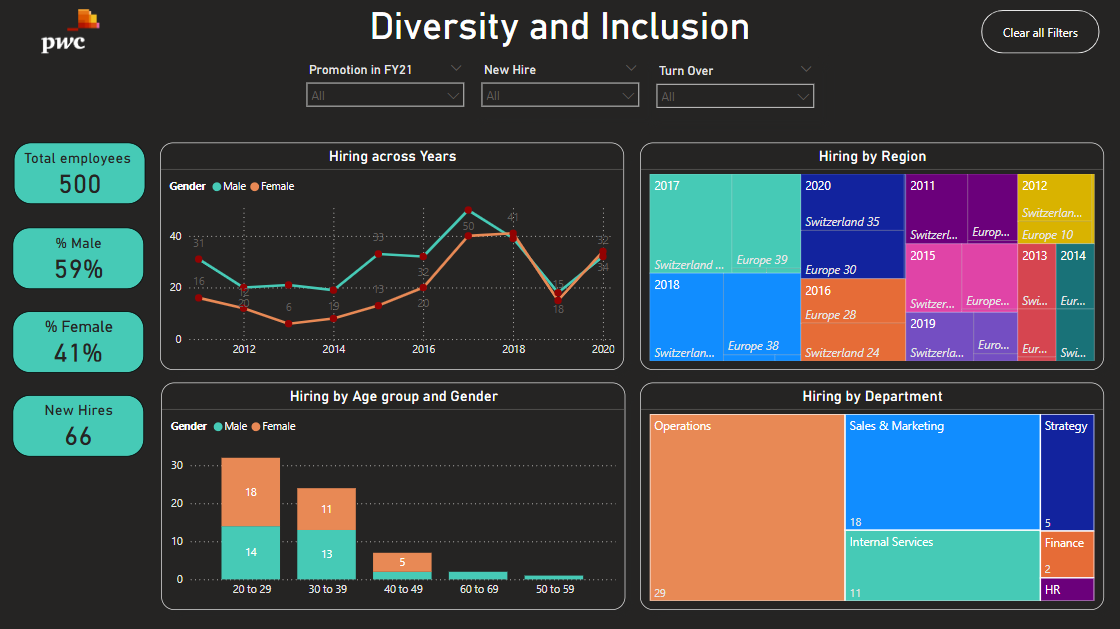

What the dashboard file says about the page in this screenshot:
{"tool":"powerbi","page":{"name":"Hire","canvas":[1280,720],"ordinal":1},"visuals":[{"type":"card","title":"Total employees","fields":{"Values":["Pharma Group AG.Total employees"]},"box":[15.4,162.8,150.1,70.2],"z":0,"group":"g2"},{"type":"lineChart","title":"Hiring across Years","fields":{"Y":["CountNonNull(Pharma Group AG.Employee ID)"],"Category":["Pharma Group AG.Last hire date.Variation.Date Hierarchy.Year"],"Series":["Pharma Group AG.Gender"]},"box":[183,162.9,530,260],"z":0},{"type":"treemap","title":"Hiring by Region","fields":{"Values":["CountNonNull(Pharma Group AG.New hire FY20?)"],"Details":["Pharma Group AG.Region group: nationality 1"],"Group":["Pharma Group AG.Last hire date.Variation.Date Hierarchy.Year"]},"box":[731.2,162.8,530,260.2],"z":1000},{"type":"columnChart","title":"Hiring by  Age group and Gender","fields":{"Category":["Pharma Group AG.Age group"],"Y":["Pharma Group AG.New Hire"],"Series":["Pharma Group AG.Gender"]},"box":[183.6,437.4,530,260.2],"z":2000},{"type":"treemap","title":"Hiring by Department ","fields":{"Group":["Pharma Group AG.Department @01.07.2020"],"Values":["Pharma Group AG.New Hire"]},"box":[731,437.4,530,260.2],"z":3000},{"type":"image","box":[0,5,160,60.3],"z":4000},{"type":"group","id":"g1","title":"Group 1","box":[339.6,65.1,600.8,71.2],"z":5000},{"type":"actionButton","box":[1120.8,12.1,135.1,49.5],"z":6000},{"type":"group","id":"g2","title":"Group 2","box":[13.8,162.8,151.7,359.2],"z":7000},{"type":"textbox","box":[0,0,1280,67.6],"z":8000},{"type":"card","title":"New Hires","fields":{"Values":["Pharma Group AG.New Hire"]},"box":[13.8,451.8,150.1,70.2],"z":9000,"group":"g2"},{"type":"slicer","fields":{"Values":["Pharma Group AG.New hire FY20?"]},"box":[539.9,65.1,200.3,70],"z":10000,"group":"g1"},{"type":"card","title":"% Male","fields":{"Values":["Pharma Group AG.% Male"]},"box":[13.8,259.3,150,70],"z":10000,"group":"g2"},{"type":"slicer","fields":{"Values":["Pharma Group AG.FY20 leaver?"]},"box":[740.1,66.3,200.3,70],"z":11000,"group":"g1"},{"type":"card","title":"% Female","fields":{"Values":["Pharma Group AG.% Female"]},"box":[13.8,355.5,150,70],"z":11000,"group":"g2"},{"type":"slicer","fields":{"Values":["Pharma Group AG.Promotion in FY21?"]},"box":[339.6,65.1,200.3,63.9],"z":12000,"group":"g1"}]}

Visuals, with their boxes in screenshot pixels (x1, y1, x2, y2), scaled from the page's 1280x720 canvas onto the 1120x629 screenshot:
"Total employees" card: <bbox>13, 142, 145, 204</bbox>
"Hiring across Years" lineChart: <bbox>160, 142, 624, 369</bbox>
"Hiring by Region" treemap: <bbox>640, 142, 1104, 370</bbox>
"Hiring by  Age group and Gender" columnChart: <bbox>161, 382, 624, 609</bbox>
"Hiring by Department " treemap: <bbox>640, 382, 1103, 609</bbox>
image: <bbox>0, 4, 140, 57</bbox>
"Group 1" group: <bbox>297, 57, 823, 119</bbox>
actionButton: <bbox>981, 11, 1099, 54</bbox>
"Group 2" group: <bbox>12, 142, 145, 456</bbox>
textbox: <bbox>0, 0, 1119, 59</bbox>
"New Hires" card: <bbox>12, 395, 143, 456</bbox>
slicer - Pharma Group AG.New hire FY20?: <bbox>472, 57, 648, 118</bbox>
"% Male" card: <bbox>12, 227, 143, 288</bbox>
slicer - Pharma Group AG.FY20 leaver?: <bbox>648, 58, 823, 119</bbox>
"% Female" card: <bbox>12, 311, 143, 372</bbox>
slicer - Pharma Group AG.Promotion in FY21?: <bbox>297, 57, 472, 113</bbox>
